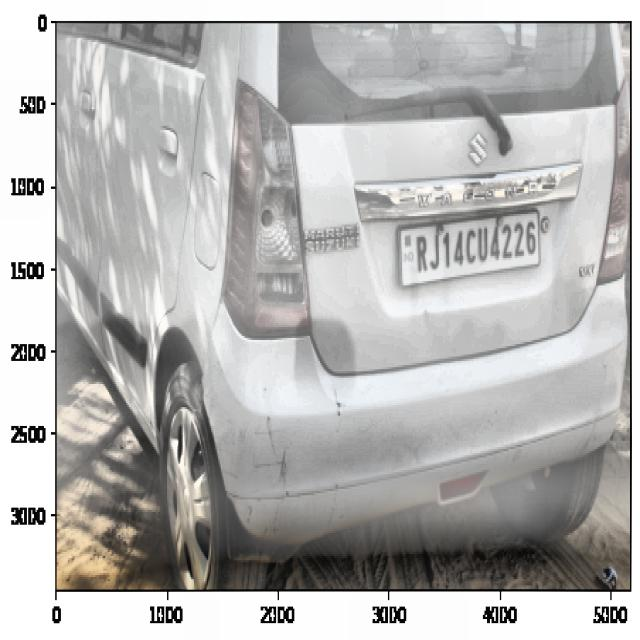license_plate: (409, 214, 541, 281)
